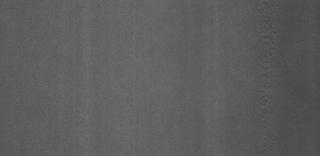silk spot: (253, 10, 287, 102)
